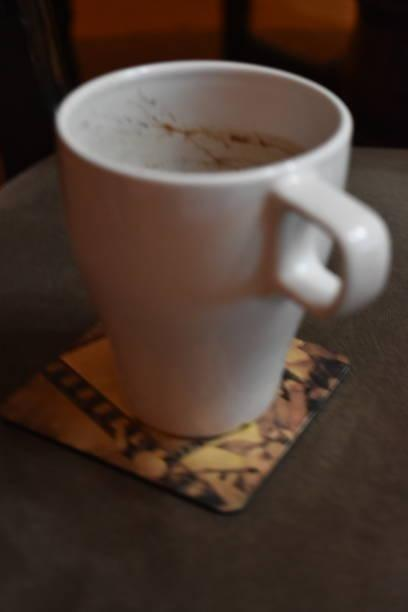cup-handle: (52, 58, 394, 440)
